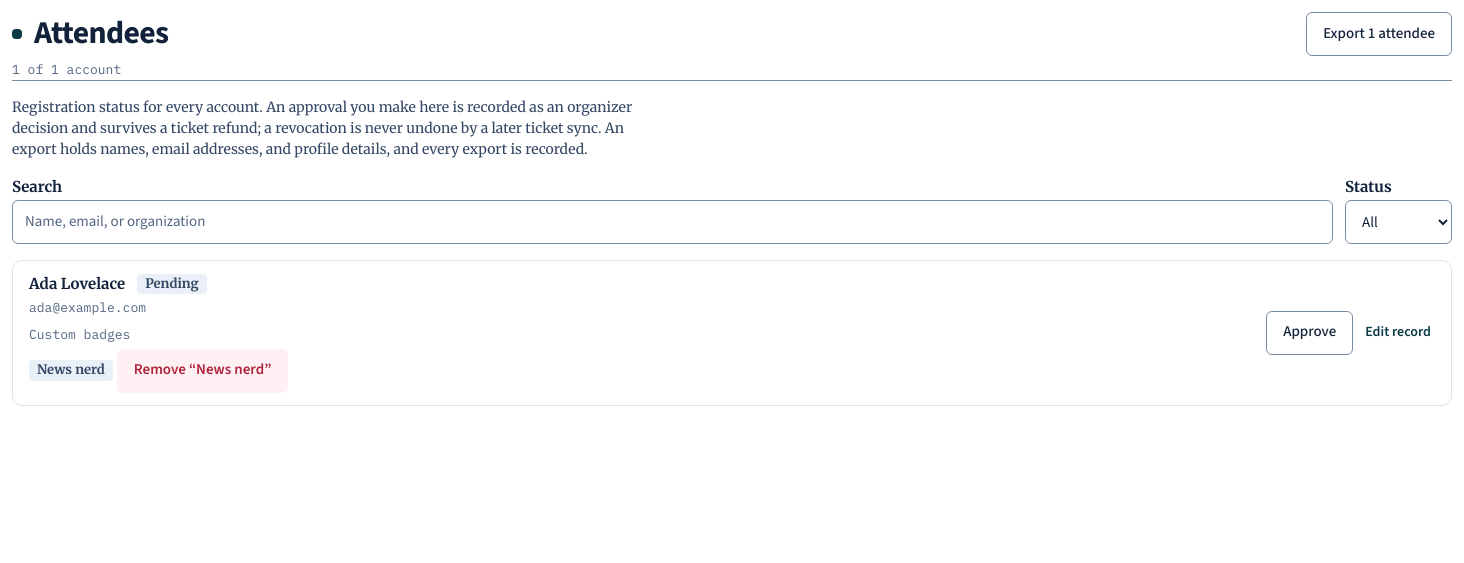
Test case: AdminAttendees › reports a custom badge removal error
Click the button "Remove “News nerd”" at (203, 370), box [117, 348, 288, 392]
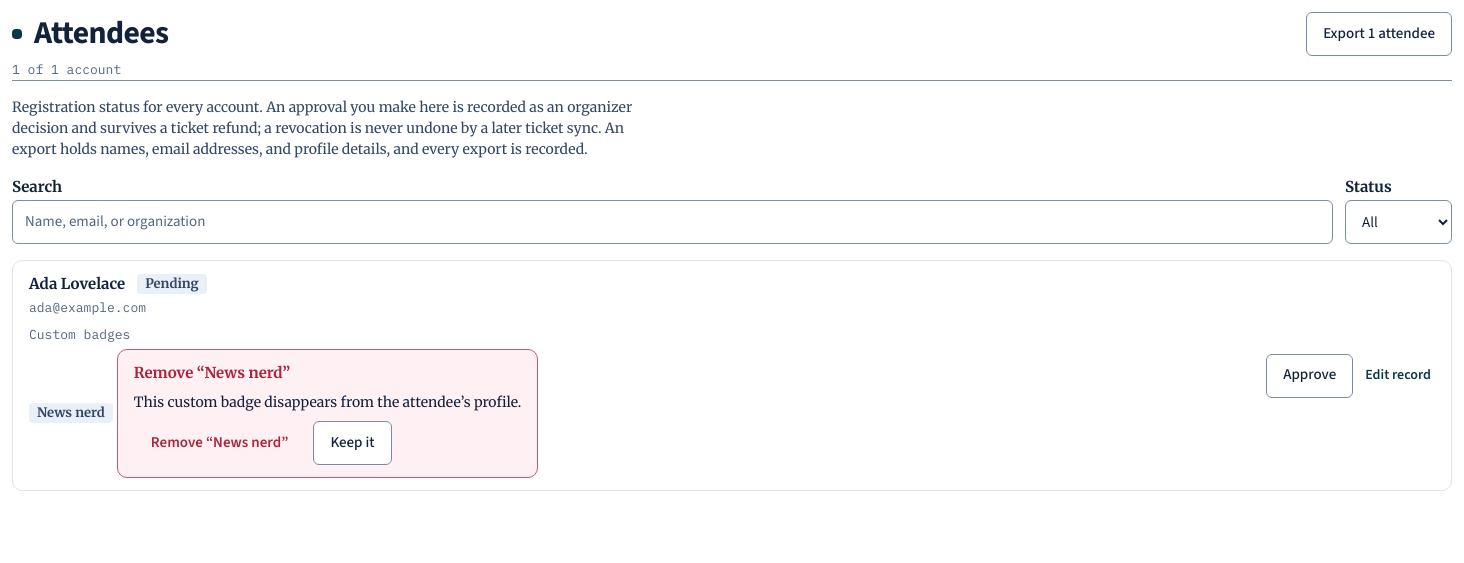
Click the button "Remove “News nerd”" at (220, 443), box [134, 421, 305, 465]
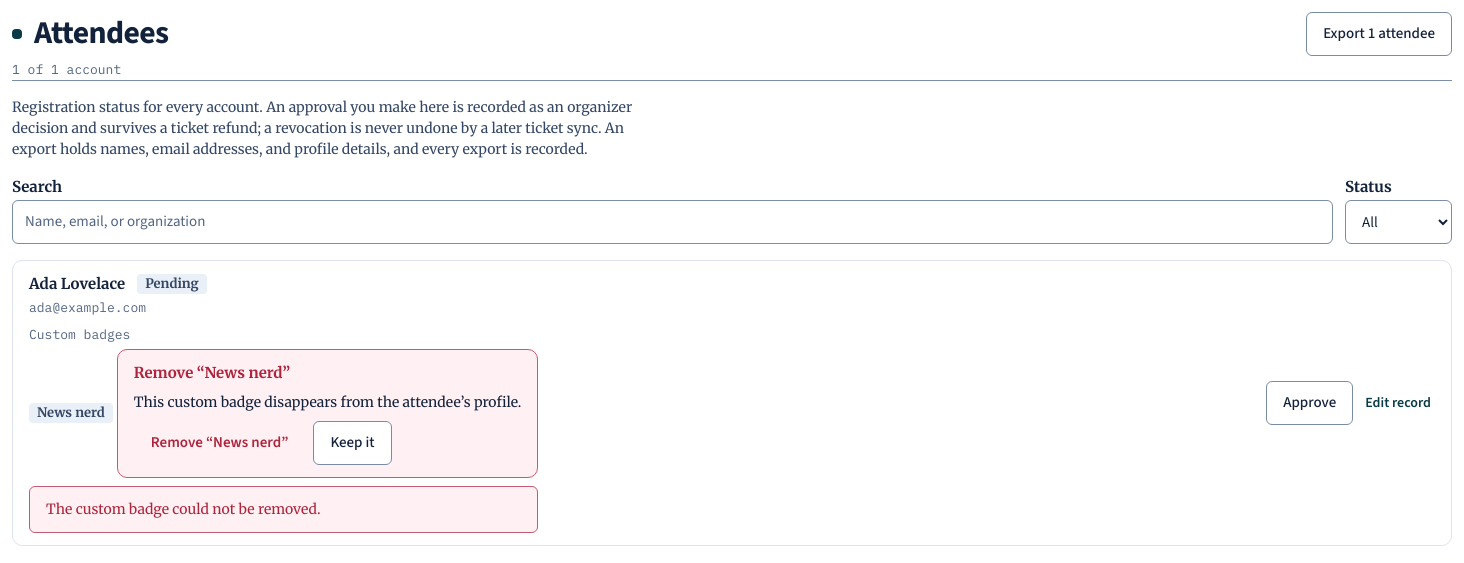
Check: the message reads "The custom badge could not be removed.", box [46, 500, 320, 518]
